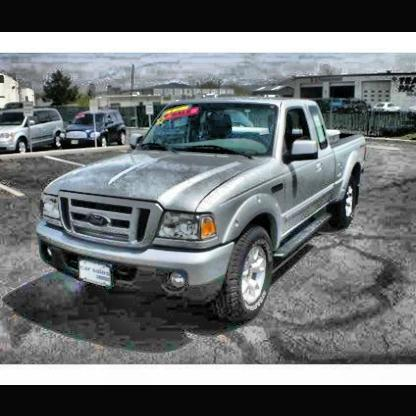Ford Ranger SuperCab 2011: (39, 97, 369, 324)
